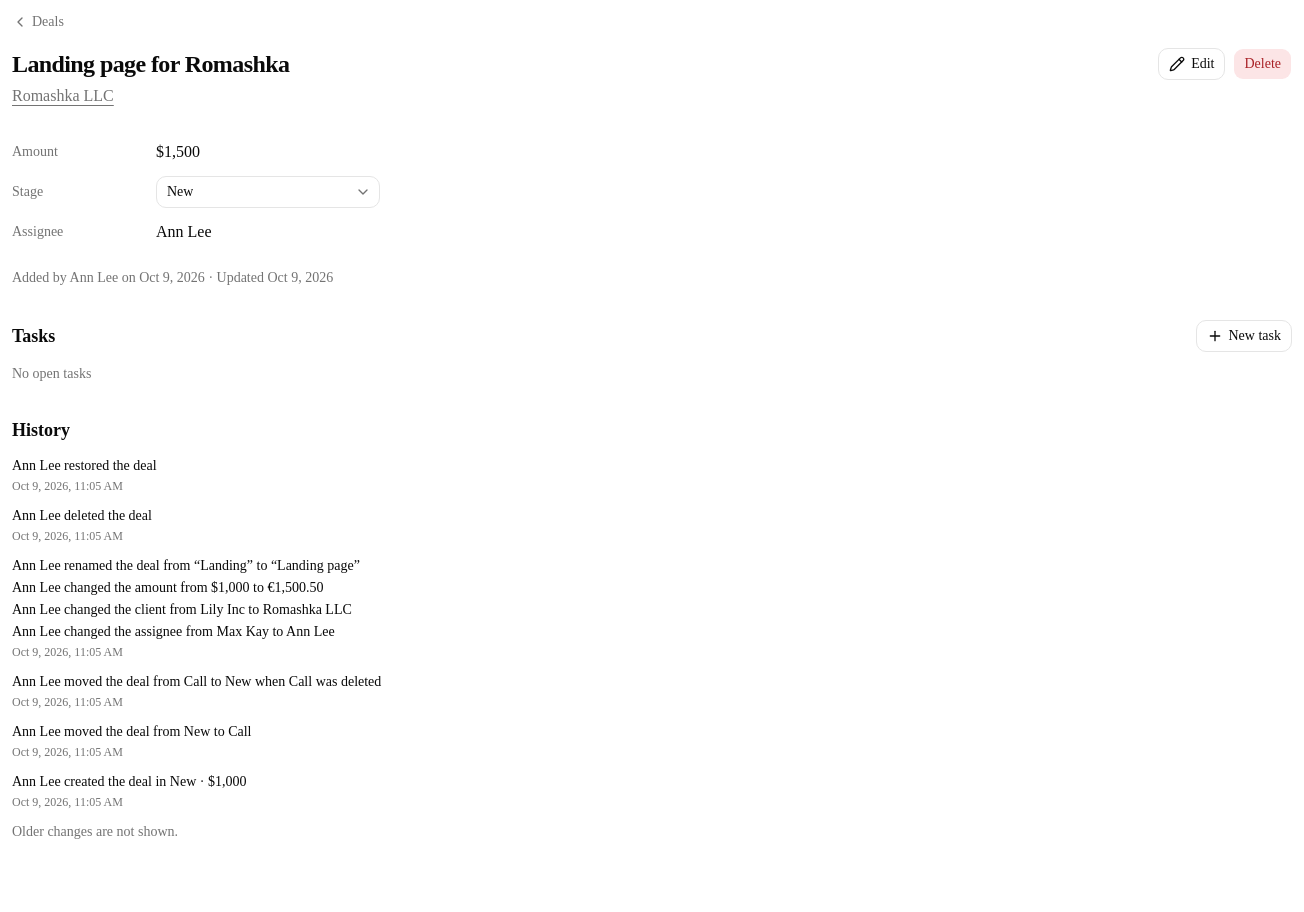
Test: DealView › should show the not found state when a move finds the deal gone
This screenshot has width=1304, height=912.
Click the dropdown named "Stage": [268, 192] box [156,176,380,208]
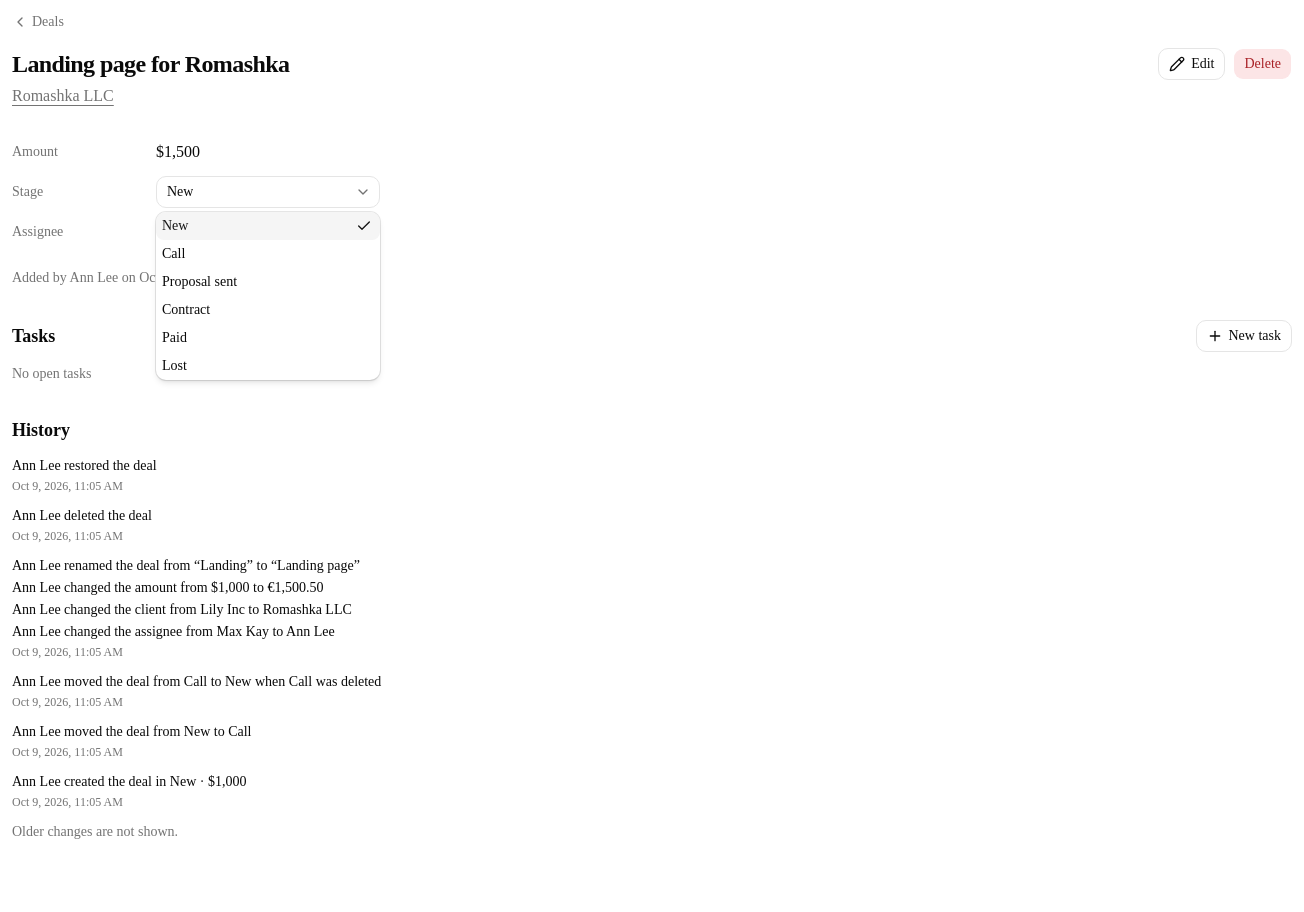
Click the option "Call": [174, 254] box [162,246,185,261]
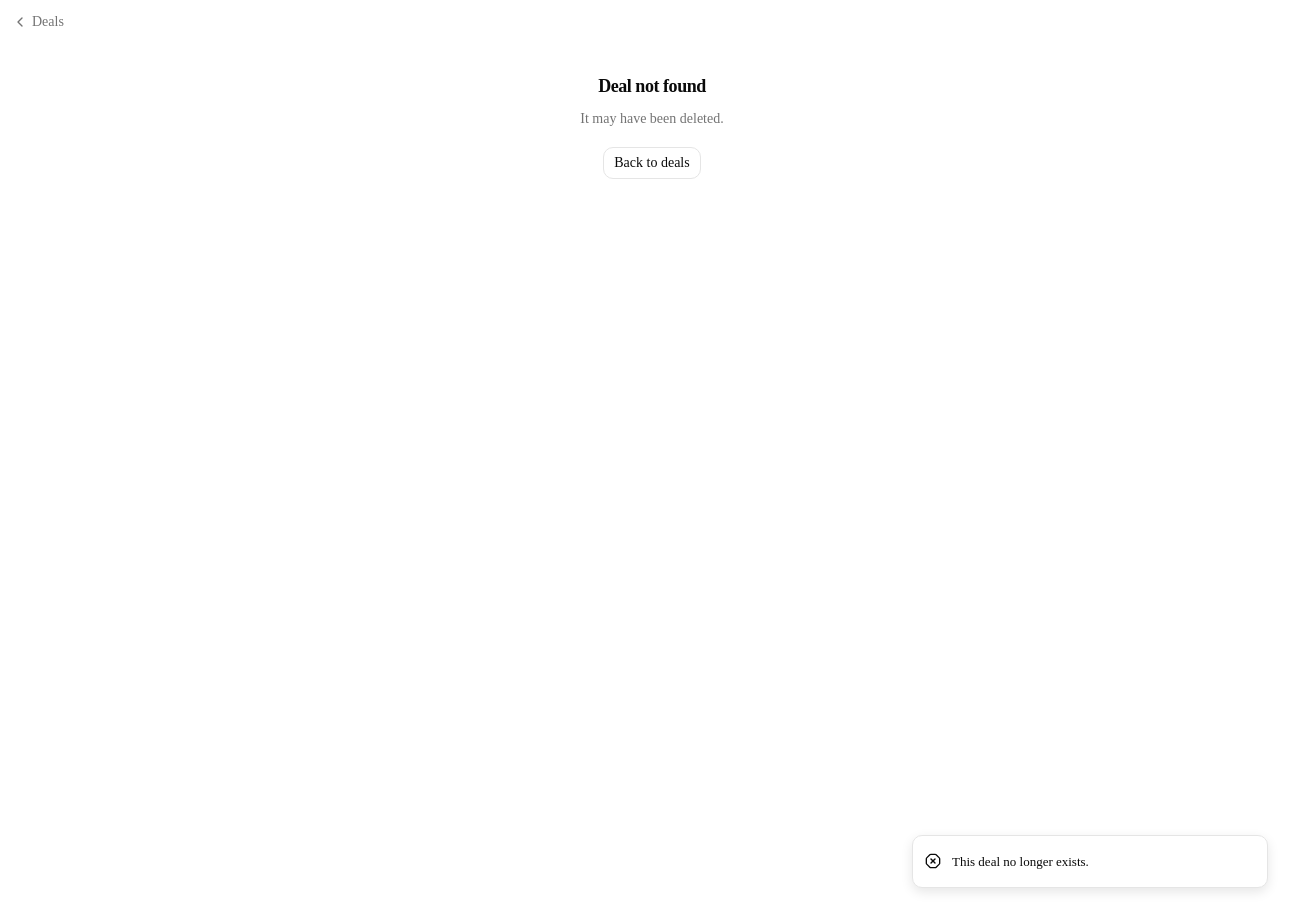
Check: the heading "Deal not found" is shown, box [598,72,706,100]
